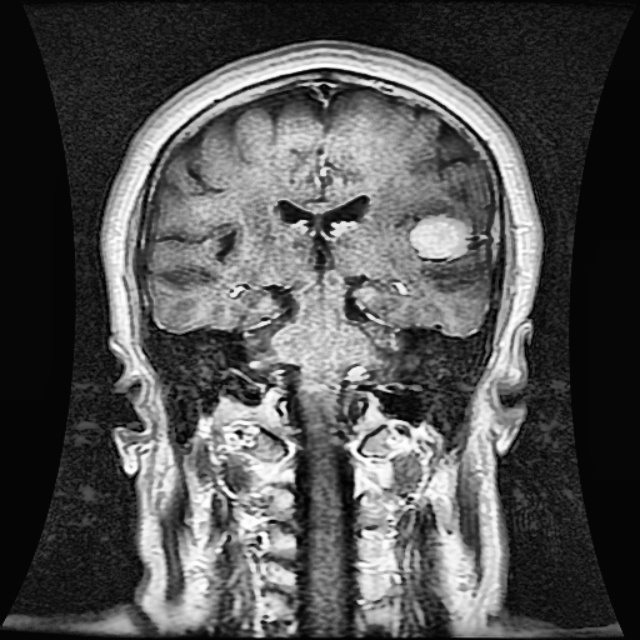Glioma: (409, 217, 468, 259)
